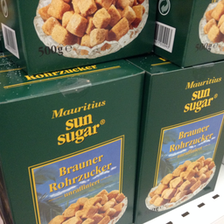tomato_sauce: (3, 63, 138, 223), (134, 59, 224, 218)
